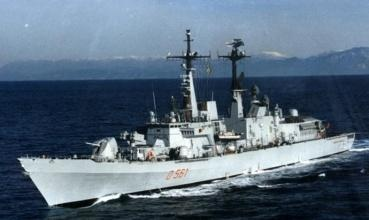warship: (10, 26, 359, 208)
